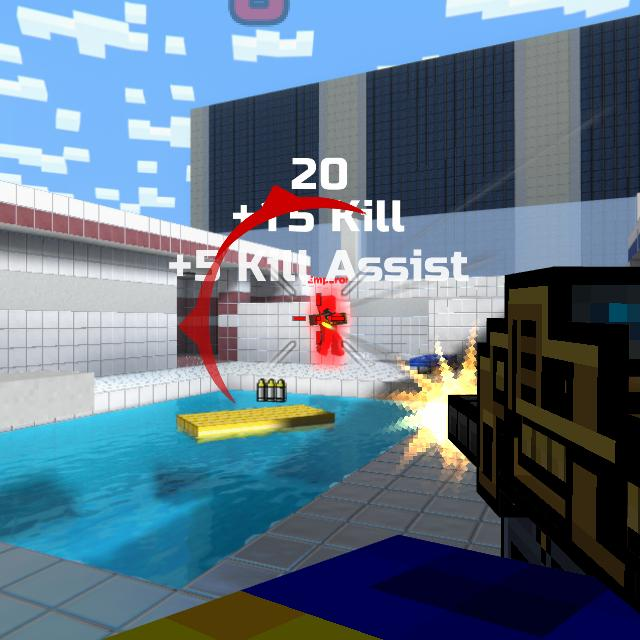Enemy: (311, 298, 349, 360)
